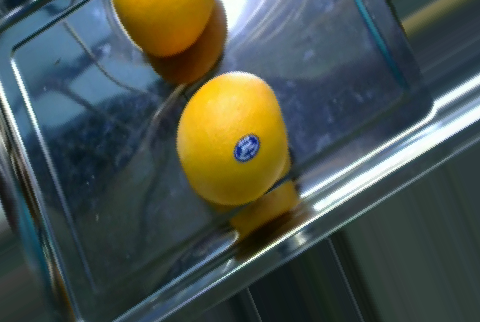Orange: (175, 70, 291, 205)
